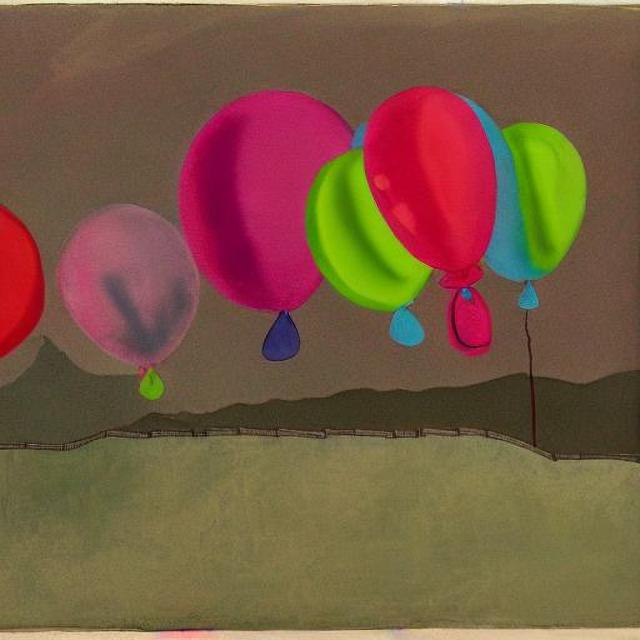balloon: (163, 75, 592, 348), (38, 197, 197, 372)
